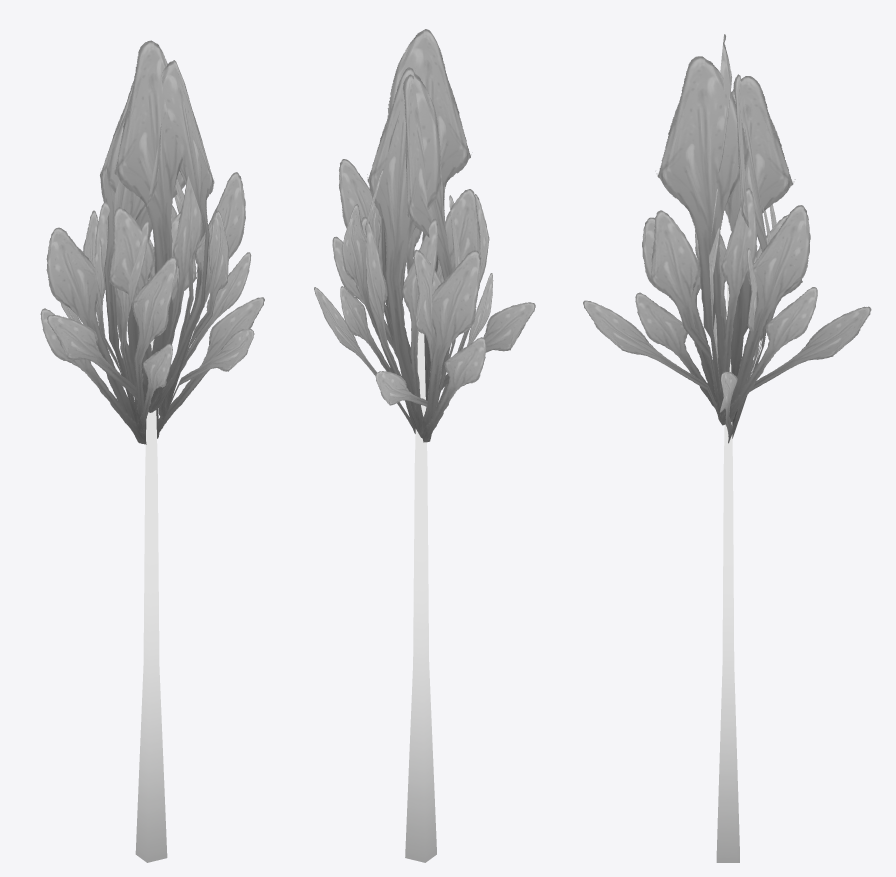
Rendered from SM_DCS_FlowerSingle_03.fbx.
3 renders of one model, left to right at view 1: azimuth 30°, elevation 25°; view 2: azimuth 150°, elevation 25°; view 3: azimuth 270°, elevation 25°, orthographic.
Visible parts, largest first — view 1: SM_FlowerSingle_03_LOD0; view 2: SM_FlowerSingle_03_LOD0; view 3: SM_FlowerSingle_03_LOD0.
Boxes of the visible parts, box(x1,y1,x2,y2) form: SM_FlowerSingle_03_LOD0: box(40, 40, 264, 862); SM_FlowerSingle_03_LOD0: box(314, 29, 535, 862); SM_FlowerSingle_03_LOD0: box(583, 34, 871, 862).
Size of what is drawn, in the model's own units: 0.3256 by 1.09 by 0.366.
